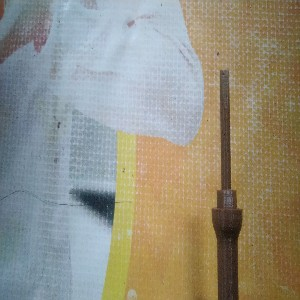obeng: (211, 67, 243, 300)
